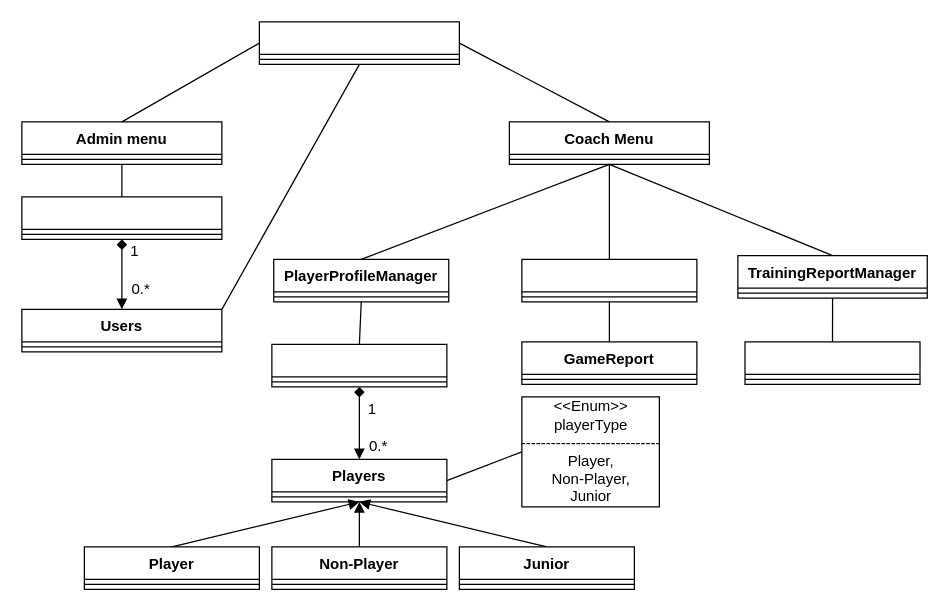
This 950x611 diagram has some shape labels left out. The shapes that lost their labels are listed below. From the top down, each one's box as (x1, y1, x2, y2) in pixels, then its label:
(258, 21, 459, 64): Simply Rugby Login
(21, 196, 222, 239): Manage Users
(521, 258, 697, 302): GameReportManager
(271, 343, 447, 387): Player profile
(744, 341, 920, 384): TrainingReport
